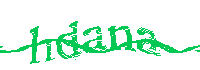a: (136, 25, 161, 56), (83, 27, 105, 53)
d: (56, 20, 82, 60)
h: (30, 26, 52, 63)
n: (108, 25, 135, 53)
